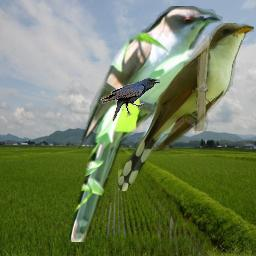Crow: (100, 78, 160, 122)
Cuckoo: (69, 6, 223, 242), (118, 23, 254, 191)
